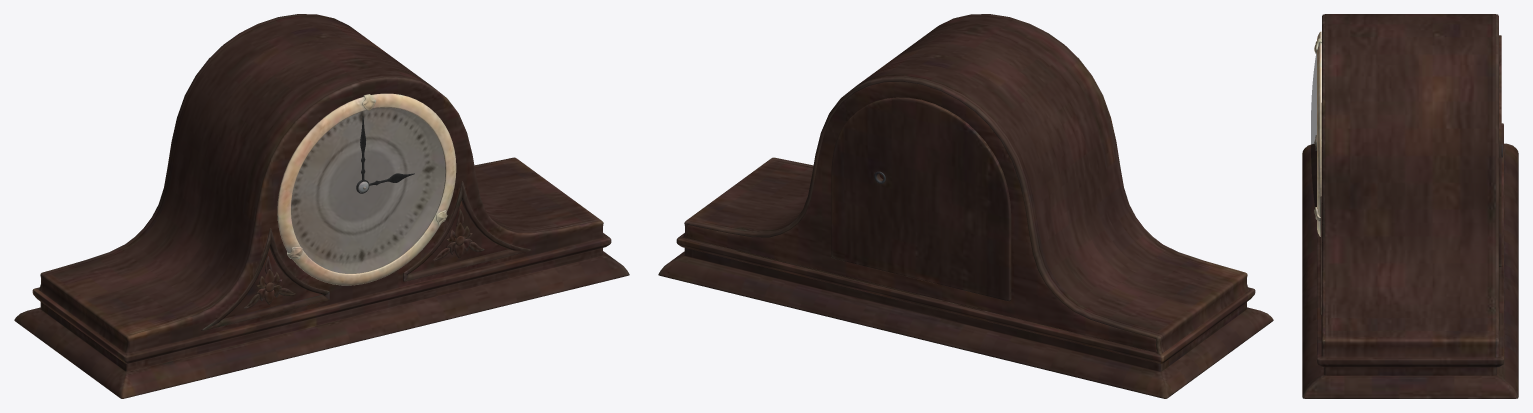
3 renders of one model, left to right at view 1: azimuth 30°, elevation 25°; view 2: azimuth 150°, elevation 25°; view 3: azimuth 270°, elevation 25°, orthographic.
Parts seen in each view (by area): view 1: mantel_clock_01, mantel_clock_01_glass; view 2: mantel_clock_01; view 3: mantel_clock_01, mantel_clock_01_glass.
Boxes of the visible parts, x1=… form: mantel_clock_01: x1=14, y1=14, x2=629, y2=398; mantel_clock_01_glass: x1=291, y1=107, x2=445, y2=273; mantel_clock_01: x1=658, y1=14, x2=1273, y2=398; mantel_clock_01: x1=1302, y1=14, x2=1518, y2=398; mantel_clock_01_glass: x1=1311, y1=53, x2=1316, y2=207.
Size of the model in its own units: 0.3423 by 0.1605 by 0.1262.
Materials: 2 (2 with a texture image).
